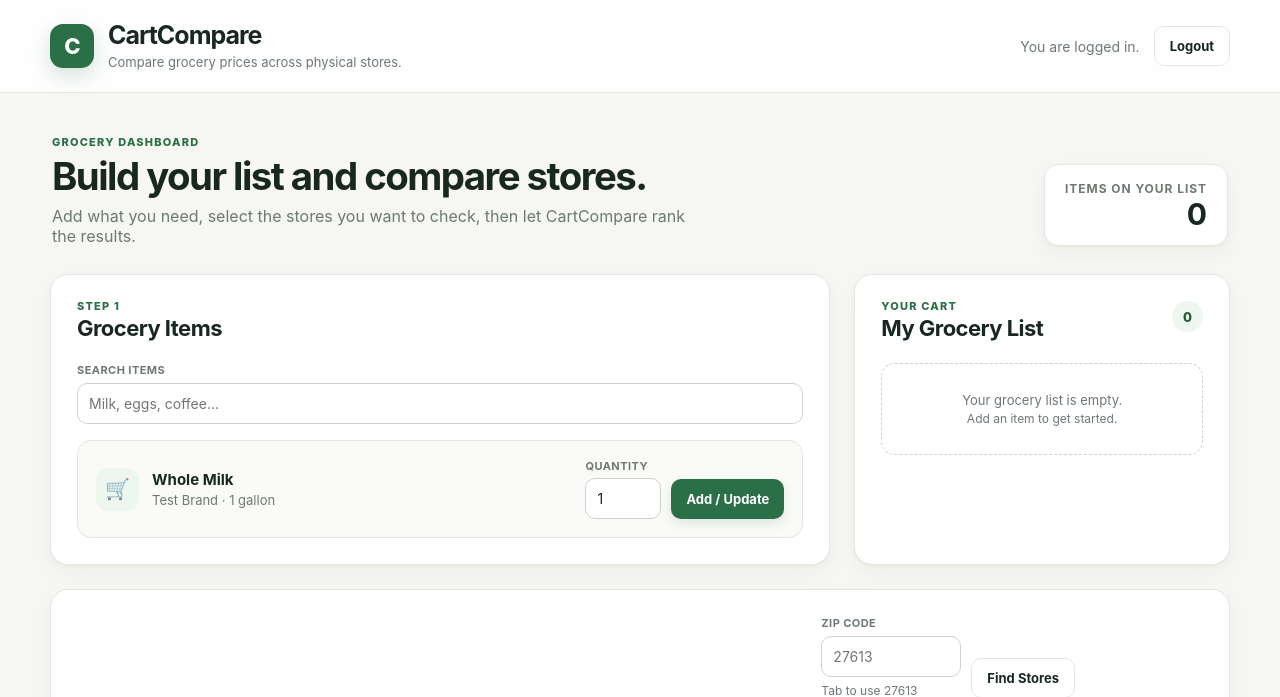
Scenario: App grocery list › rejects a quantity that is not a positive whole number
Expected: the heading "Whole Milk" is shown, 152,470 -> 234,489
Replace the text in the number field labelled "Quantity" with "0" at point(624, 498), box 586,478 -> 662,519
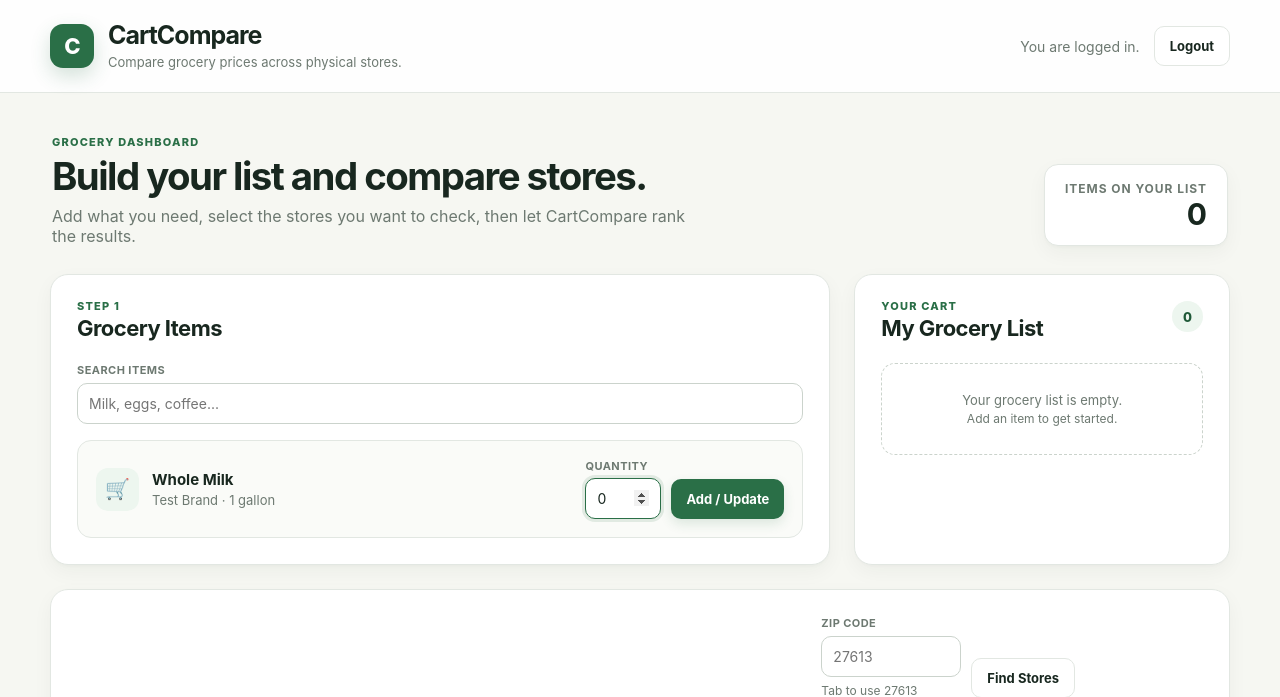
Click the button "Add / Update" at point(728, 499), box 672,479 -> 784,519
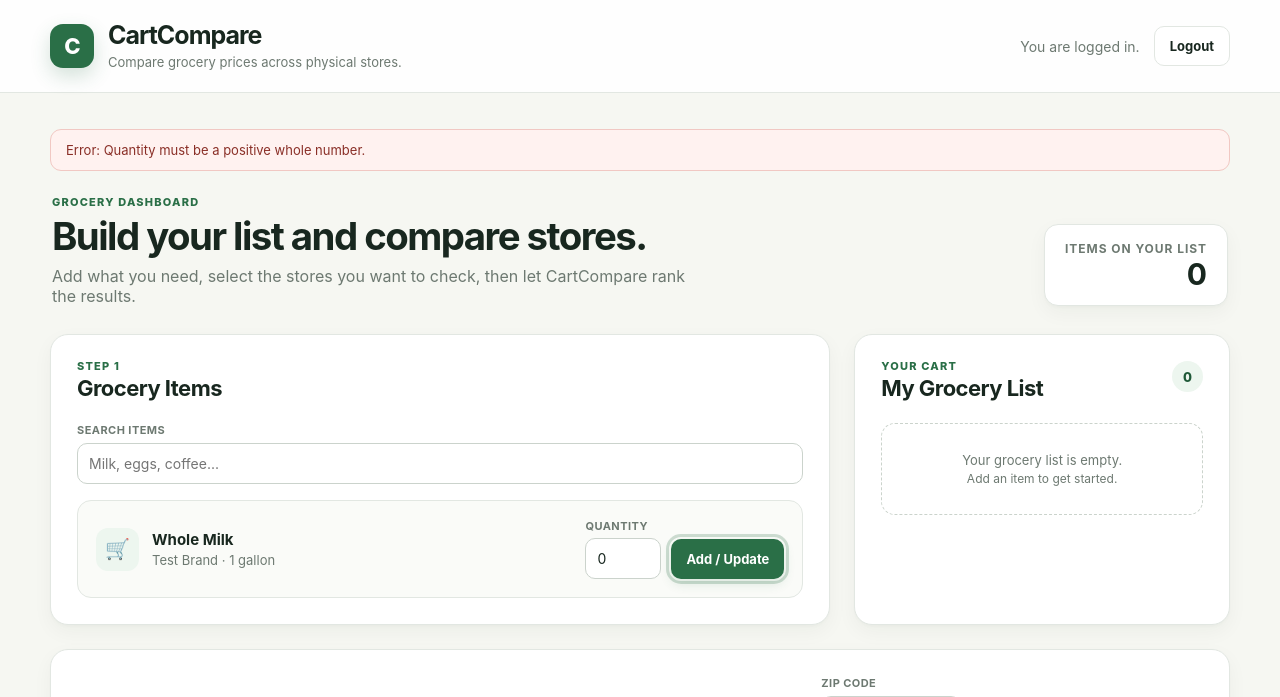
Expected: the text "Error: Quantity must be a positive whole number." is shown, 50,129 -> 1230,171
